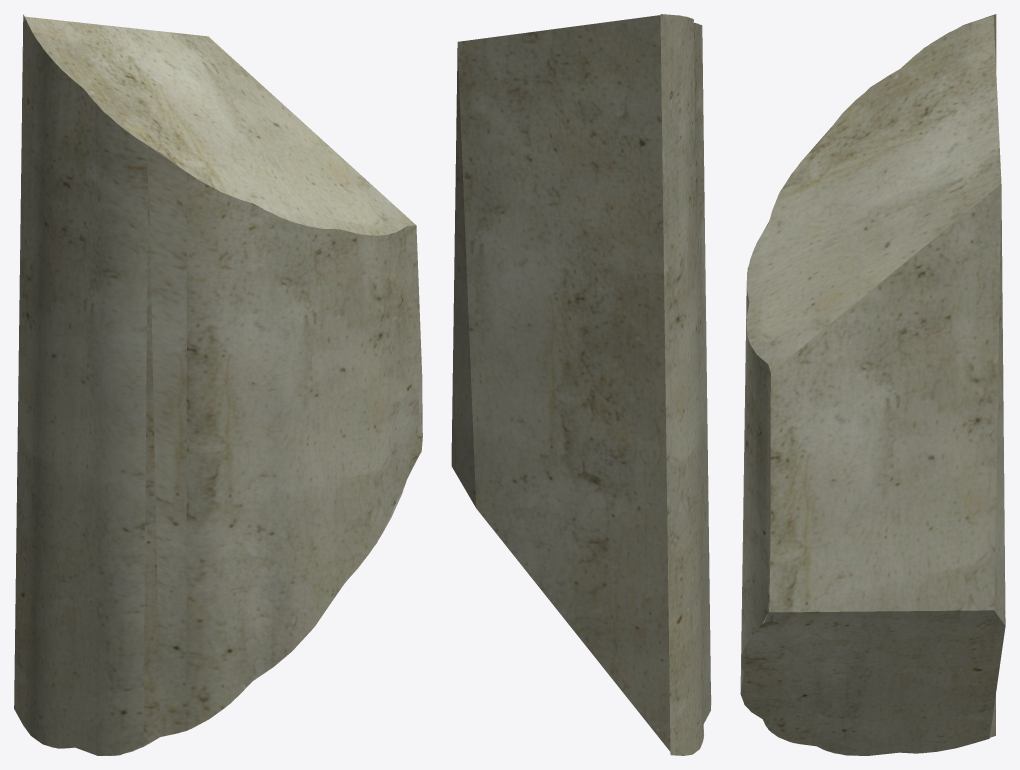
The model's file is pillar2.glb.
The picture shows the model from 3 angles, left to right: view 1: azimuth 30°, elevation 25°; view 2: azimuth 150°, elevation 25°; view 3: azimuth 270°, elevation 25°; orthographic projection. The views are drawn at different scales.
Visible parts, largest first — view 1: Tall Classic Pilar_cell.047; view 2: Tall Classic Pilar_cell.047; view 3: Tall Classic Pilar_cell.047.
Boxes of the visible parts, bbox=[...] form: Tall Classic Pilar_cell.047: bbox=[14, 14, 422, 755]; Tall Classic Pilar_cell.047: bbox=[451, 14, 711, 755]; Tall Classic Pilar_cell.047: bbox=[740, 14, 1005, 755].
Bounding box in the file's own units: 0.796 × 1.78 × 0.5753.
1 material, 1 textured.
